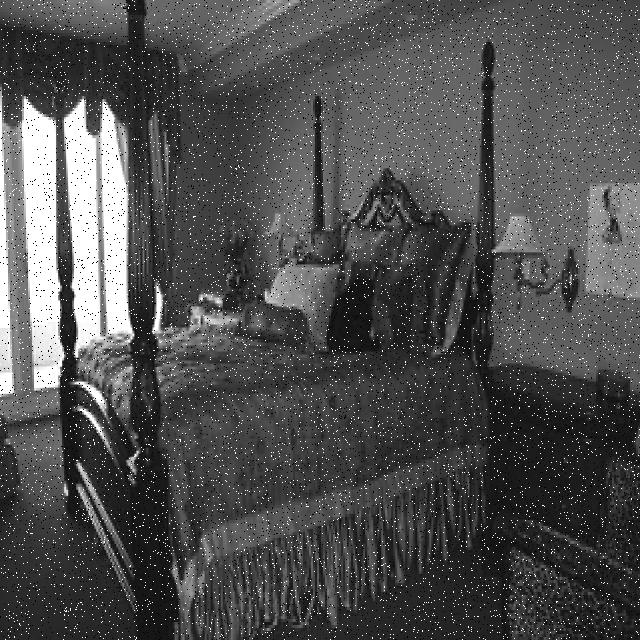bed: (74, 159, 490, 615)
